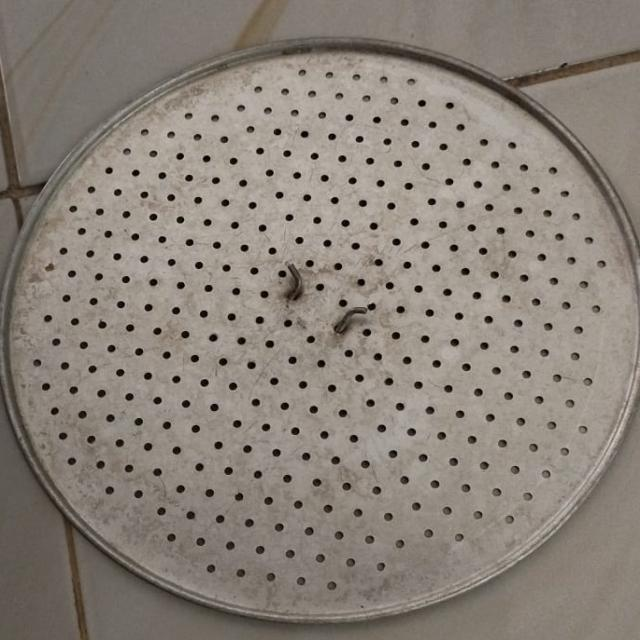Anorganik: (0, 34, 640, 625)
